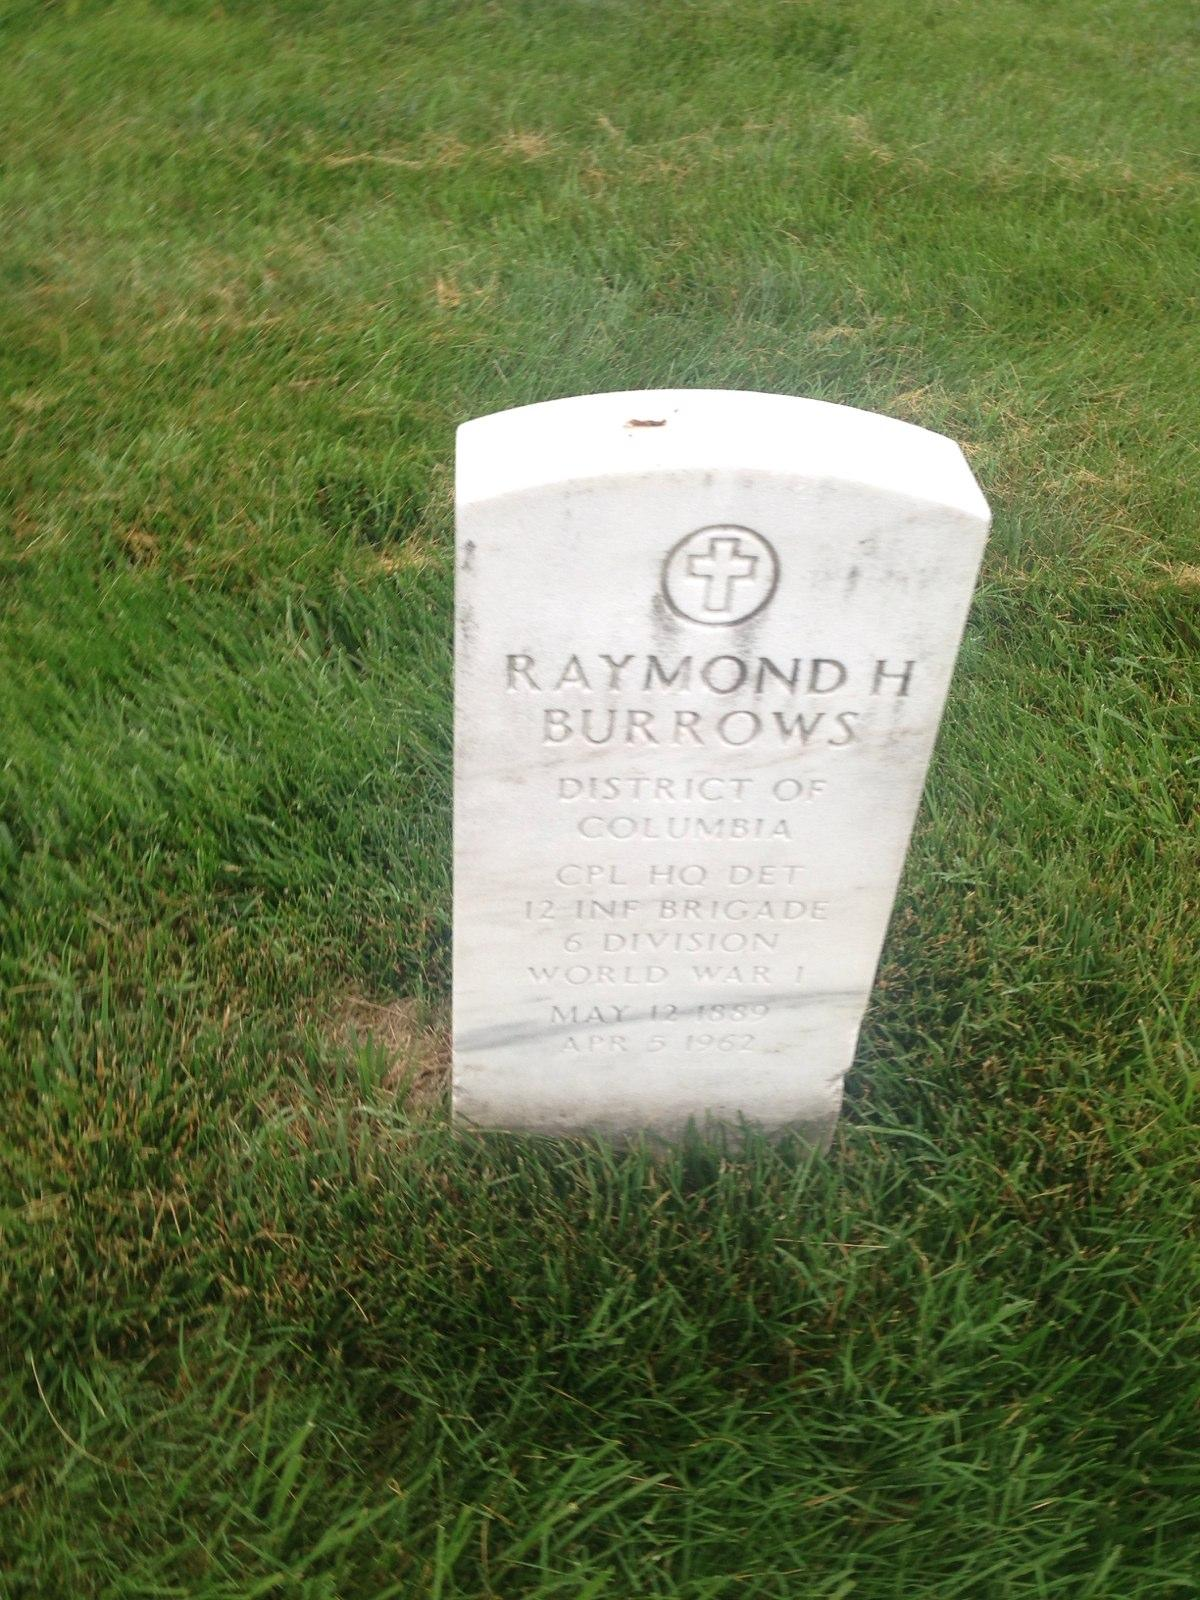military: (421, 368, 1001, 1128)
